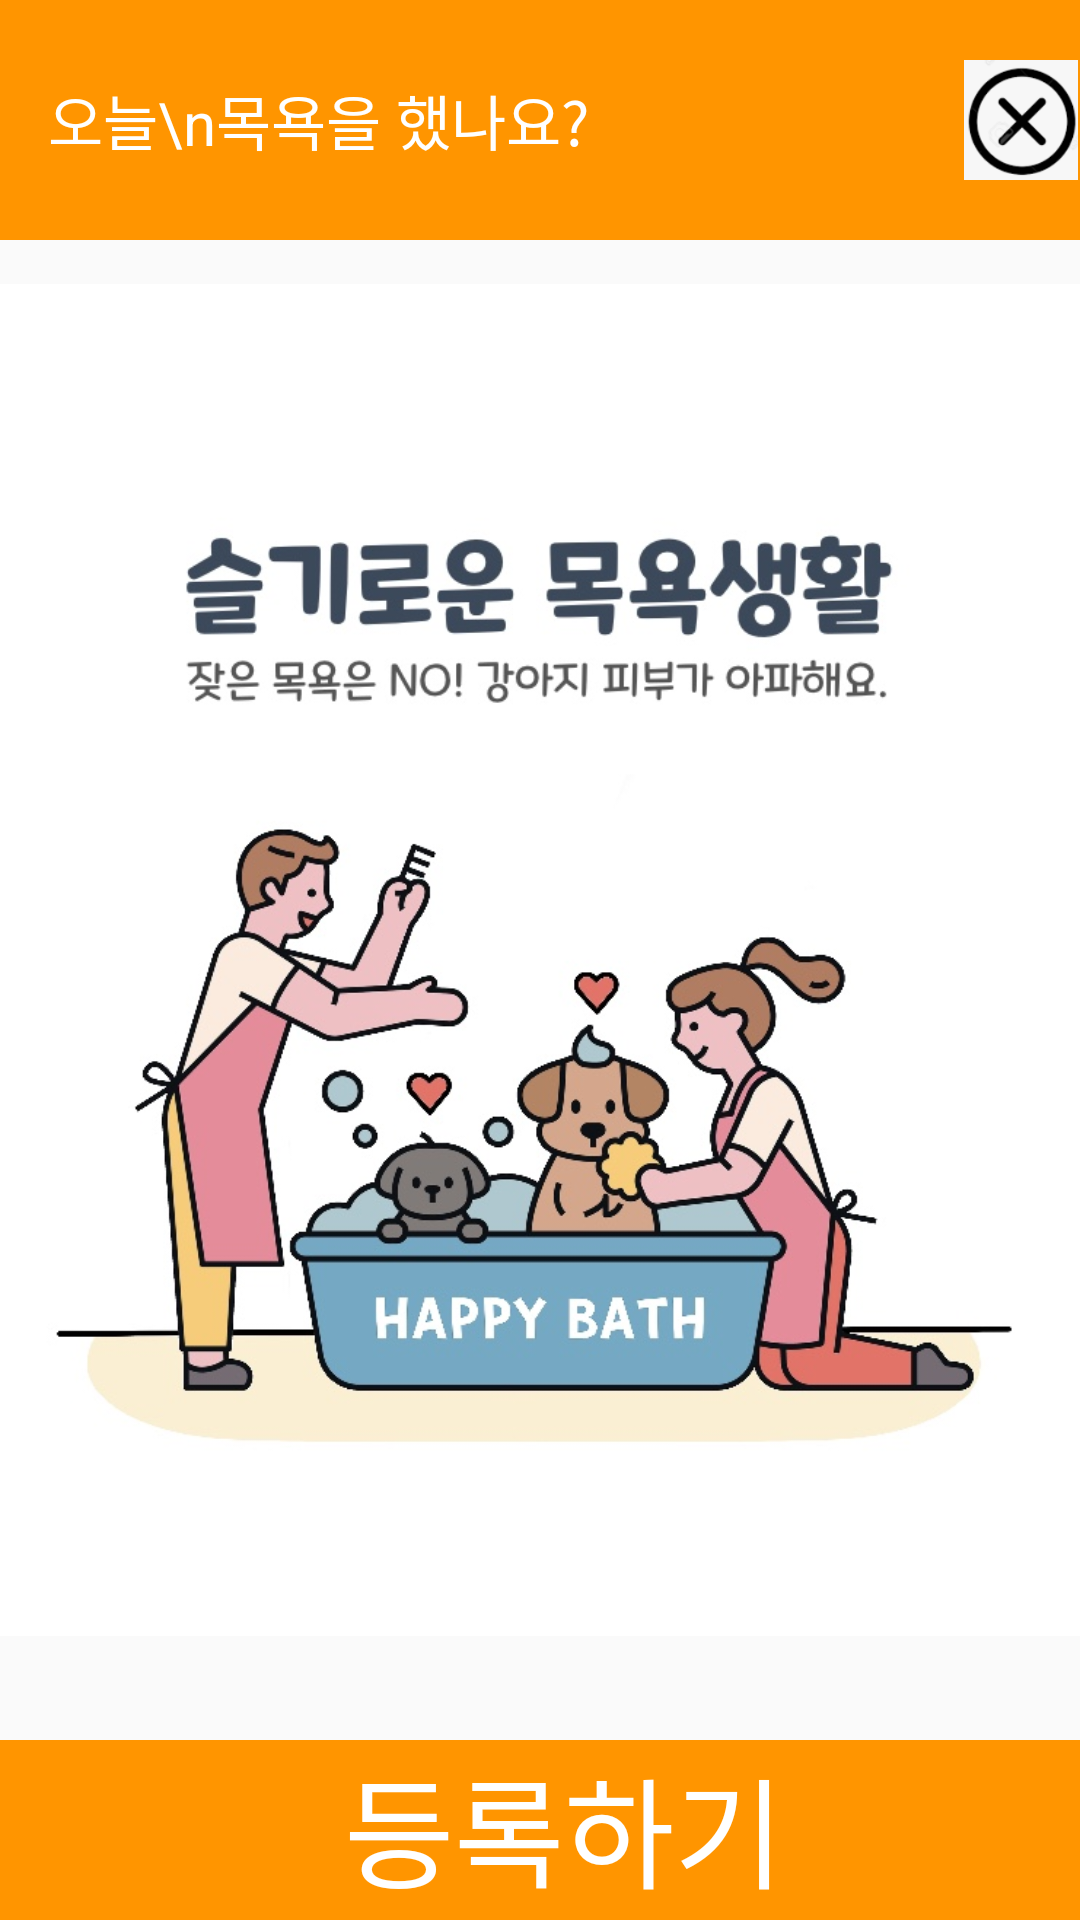

Point at icon controls on the screen. Image size 1080px×1920px, points as (x=x, y=y).
close: (x=1021, y=120)
